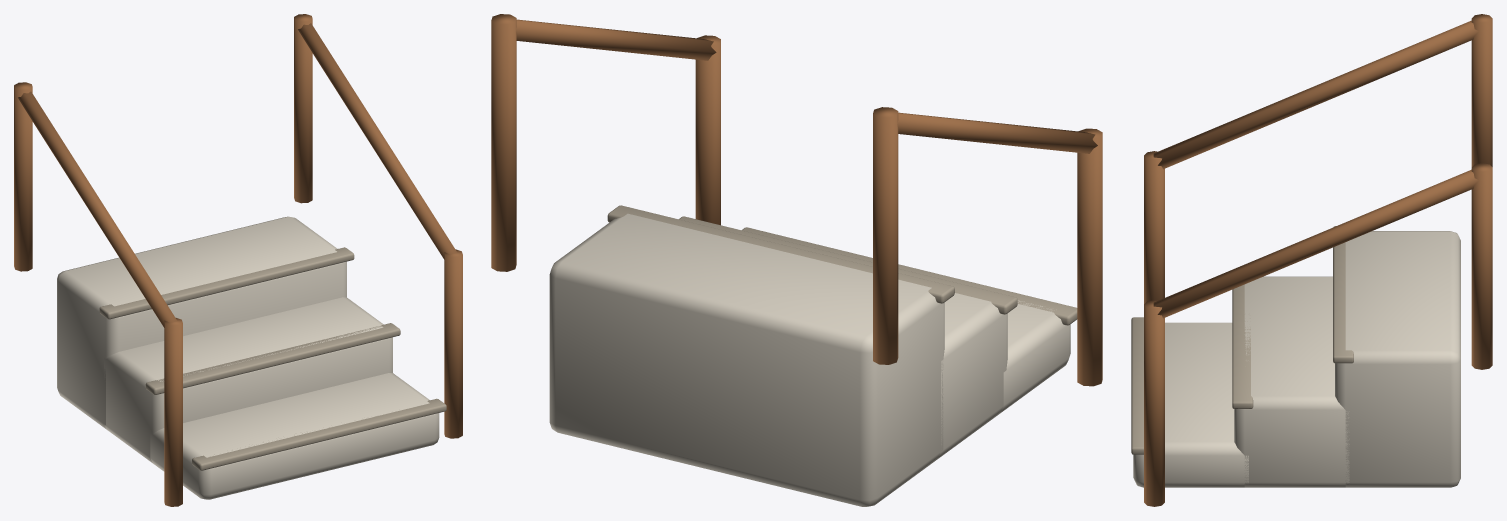
File: lighthouse-stairs.glb
3 renders of one model, left to right at view 1: azimuth 30°, elevation 25°; view 2: azimuth 150°, elevation 25°; view 3: azimuth 270°, elevation 25°, orthographic. The views are drawn at different scales.
Parts seen in each view (by area): view 1: stairs; view 2: stairs; view 3: stairs.
Boxes of the visible parts, box(x1,y1,x2,y2) form: stairs: box(14, 14, 462, 506); stairs: box(491, 14, 1102, 506); stairs: box(1131, 14, 1492, 506).
Bounding box in the file's own units: 0.89 × 0.88 × 0.86.
